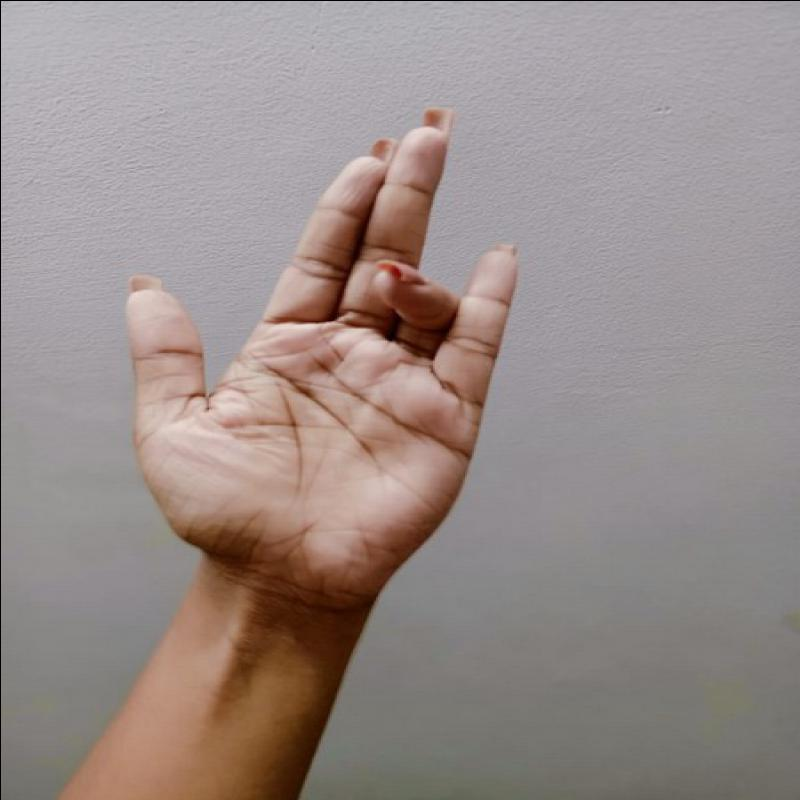Pathaaka: (110, 90, 529, 613)
